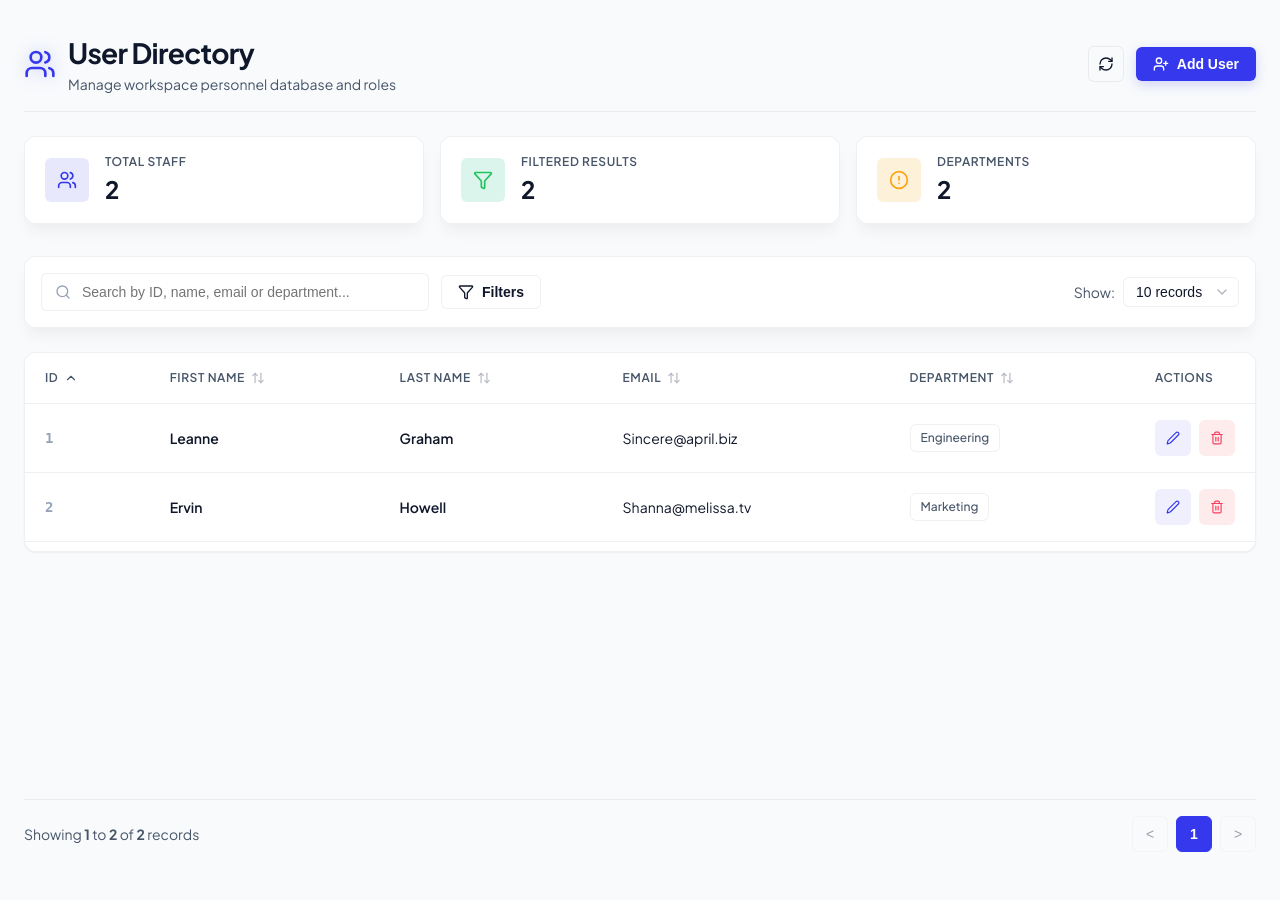
Scenario: User Management App Integration › should open form modal and successfully add a new user
expect the element with test id "user-table" is shown: met, box left=24, top=352, right=1256, bottom=552
# Click on "Add User" button
Click the button "Add User".
click(1196, 64)  # box left=1136, top=46, right=1256, bottom=80
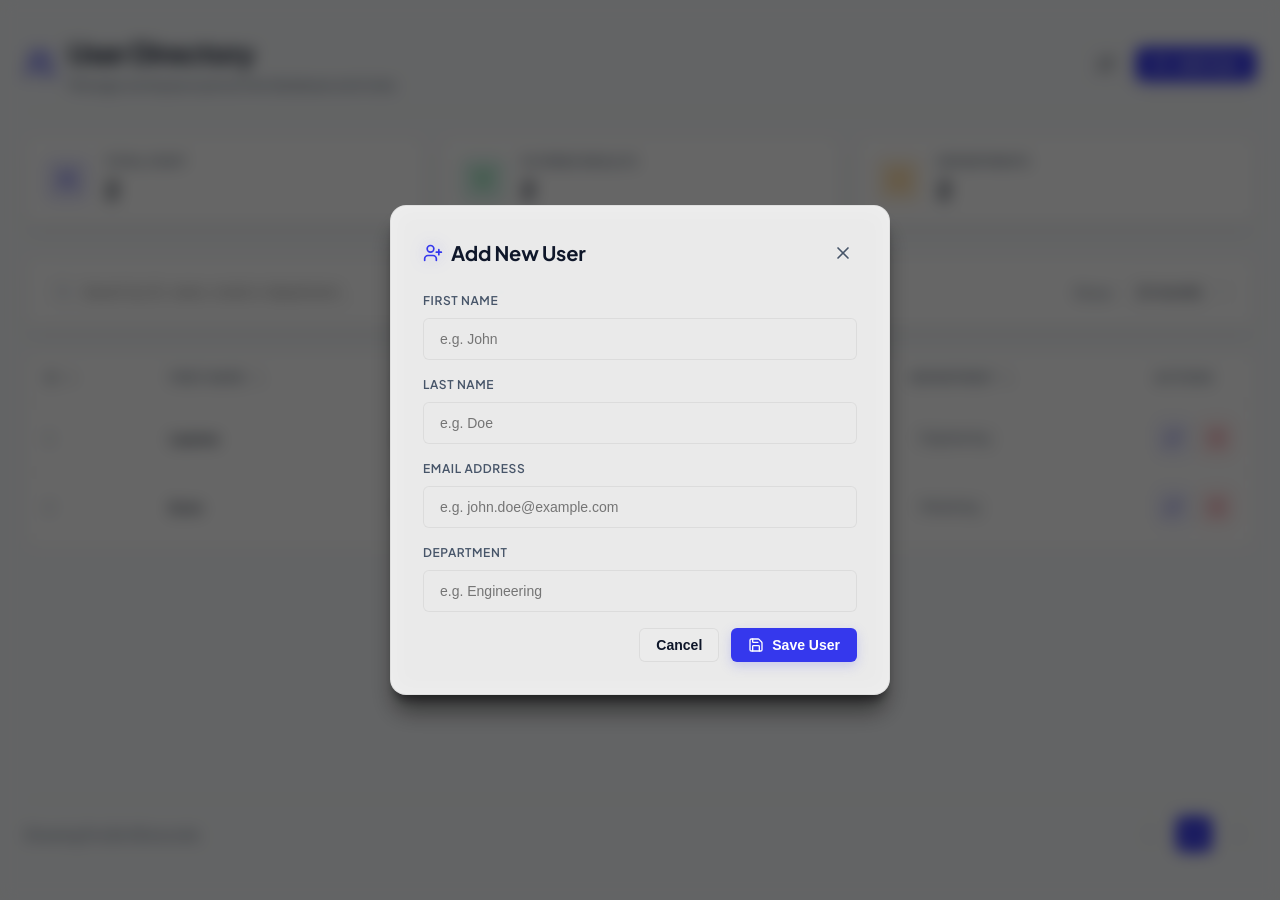
expect the dialog with test id "user-form-modal" is shown: met
# Fill in input values
Type "Jane" into the field labelled "First Name".
click(640, 339); type("Jane")  # box left=423, top=318, right=857, bottom=360
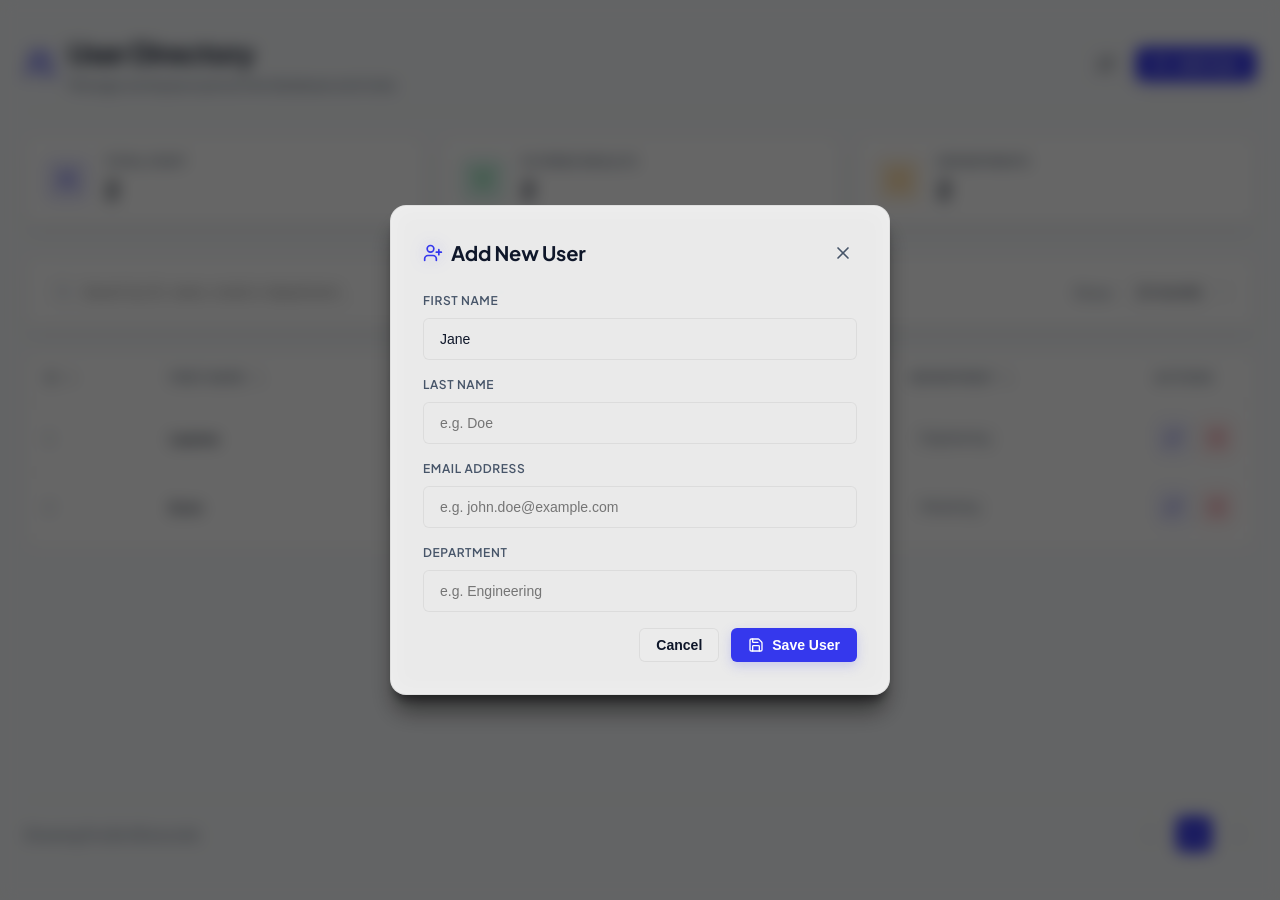
Type "Doe" into the field labelled "Last Name".
click(640, 423); type("Doe")  # box left=423, top=402, right=857, bottom=444
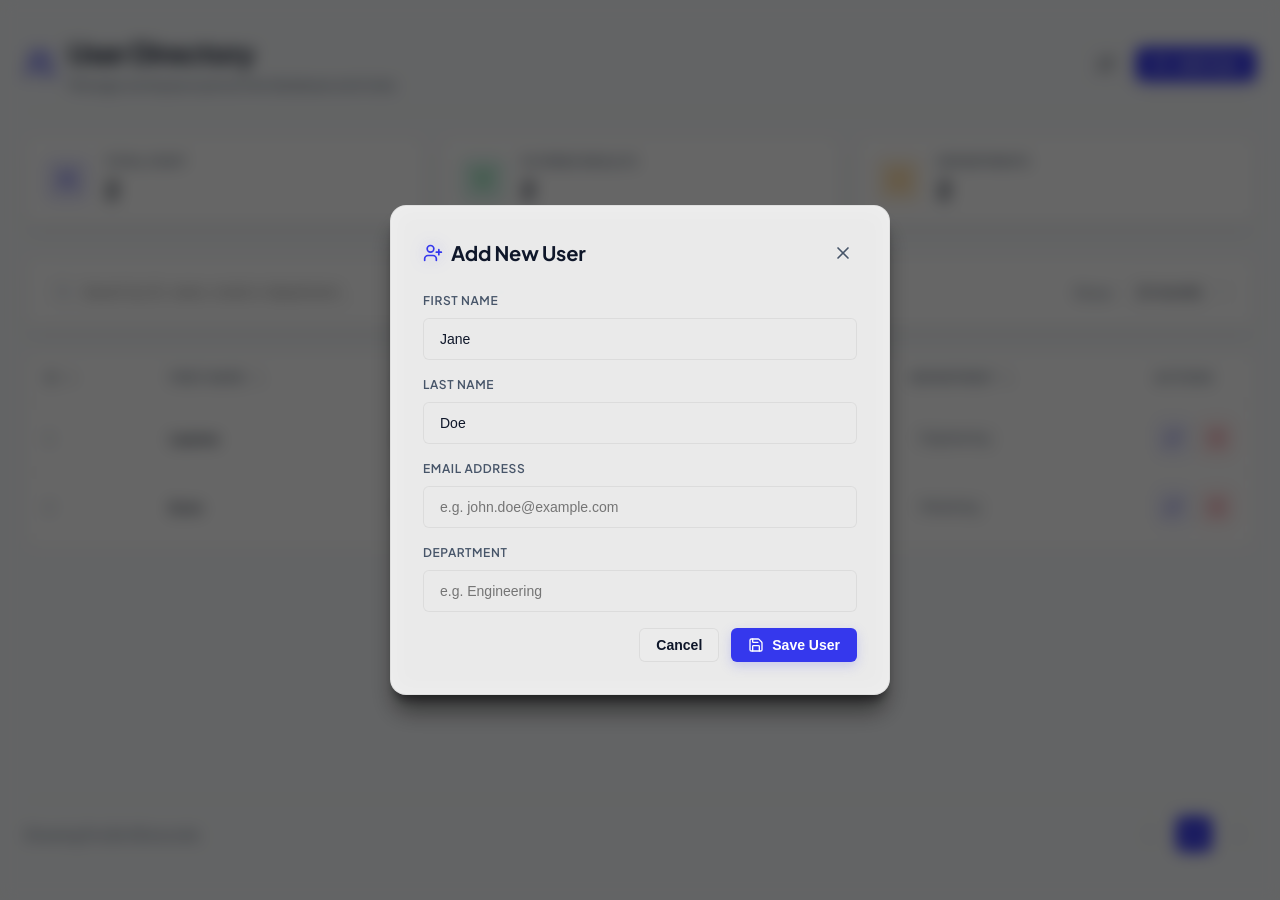
Type "jane@example.com" into the field labelled "Email Address".
click(640, 507); type("jane@example.com")  # box left=423, top=486, right=857, bottom=528
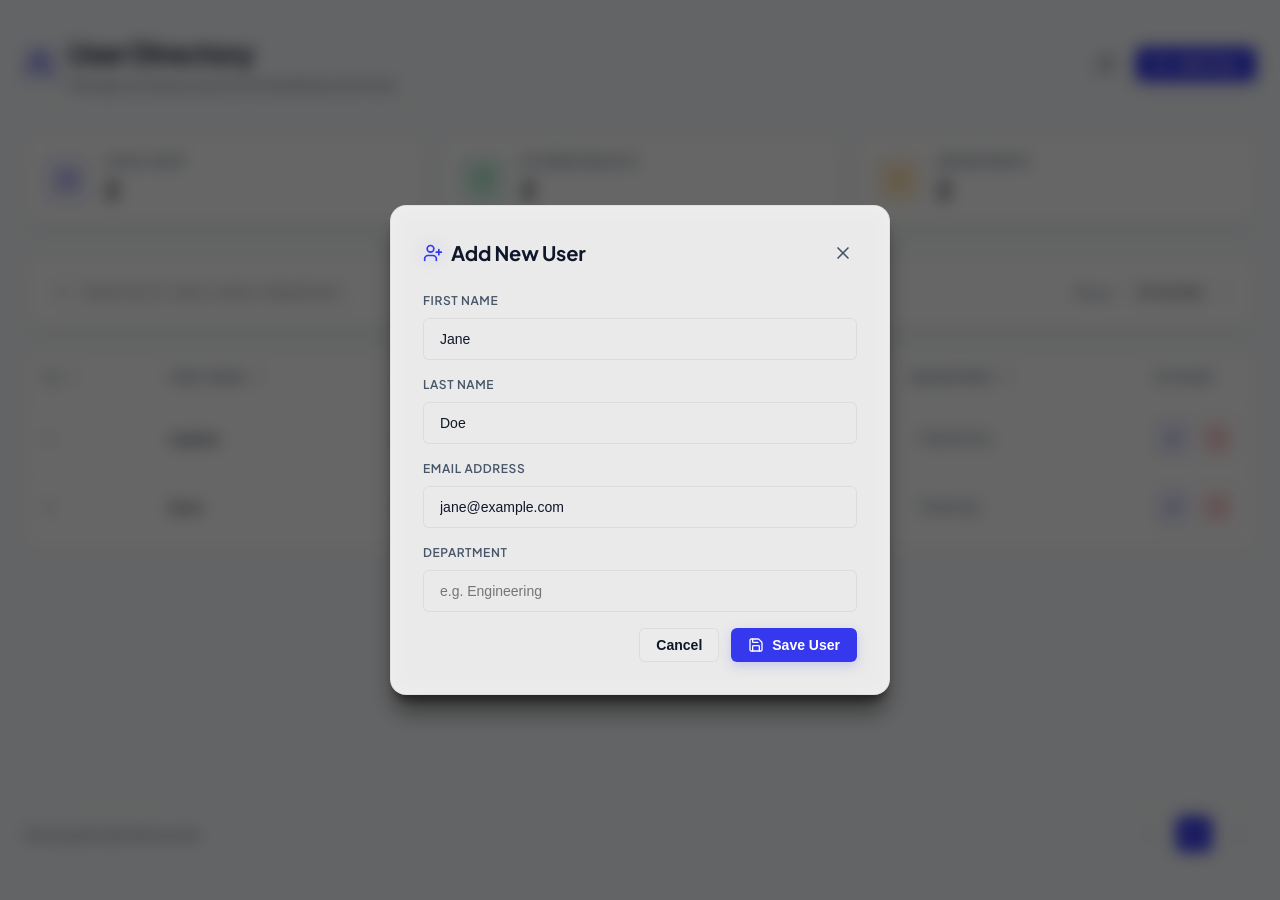
Type "Product" into the field labelled "Department".
click(640, 591); type("Product")  # box left=423, top=570, right=857, bottom=612
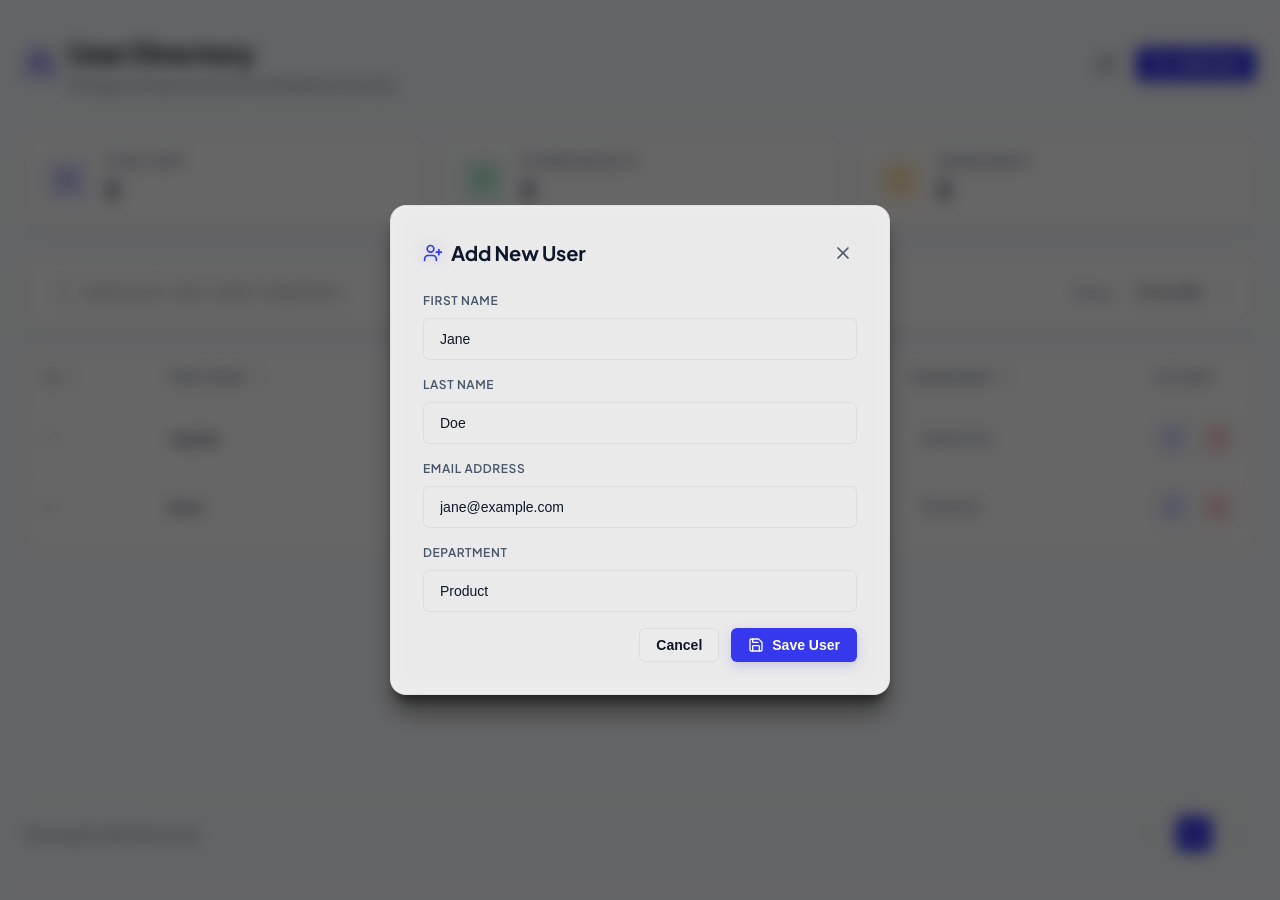
# Submit form
Click the button with test id "save-user-btn".
click(794, 645)  # box left=731, top=628, right=857, bottom=662
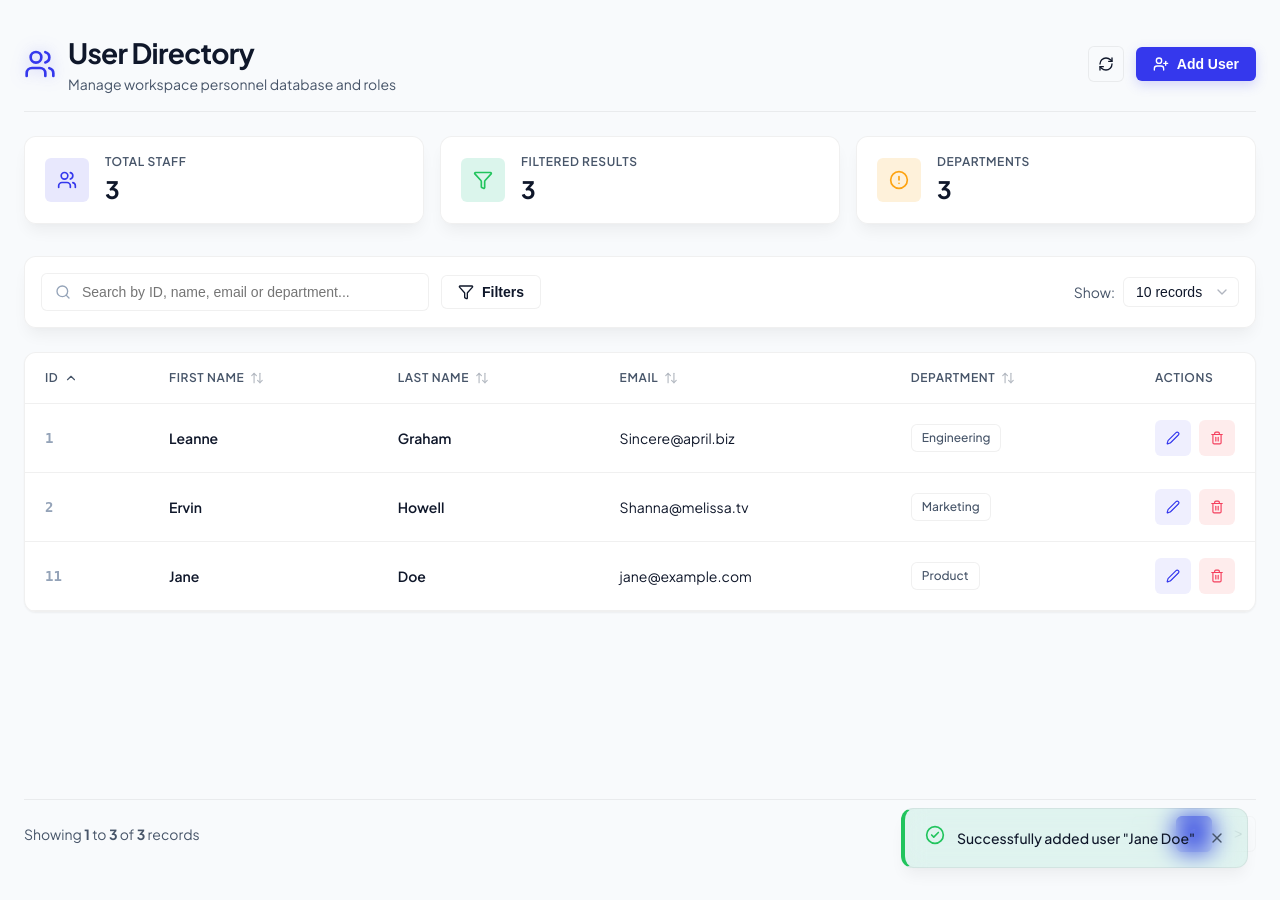
expect the dialog with test id "user-form-modal" is gone: met
expect the text "Jane" is shown: met, box left=149, top=542, right=378, bottom=610
expect the text "Product" is shown: met, box left=911, top=562, right=980, bottom=590
